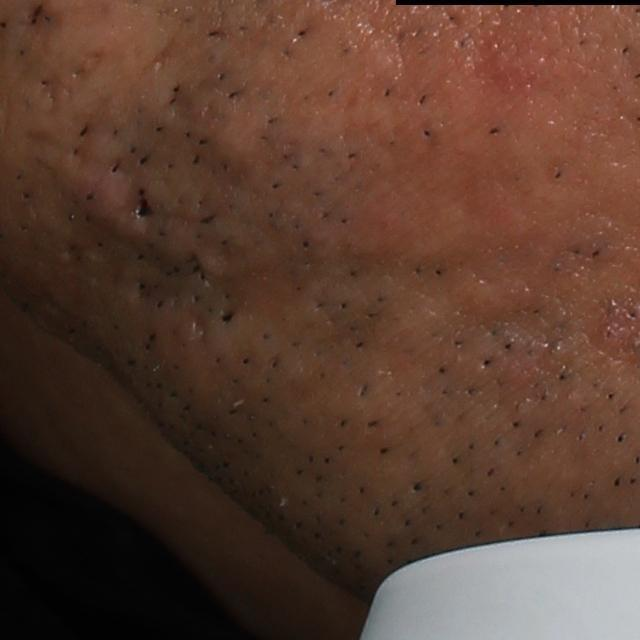hypertrophic_scar: (492, 98, 596, 225), (380, 193, 497, 264), (72, 174, 151, 242), (455, 264, 540, 319), (209, 116, 266, 170)
